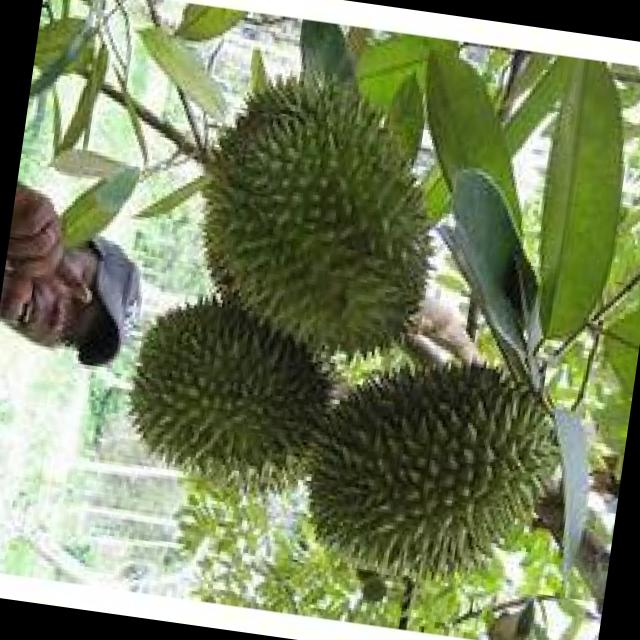fruit: (151, 44, 494, 400), (270, 317, 590, 614), (93, 274, 370, 518)
